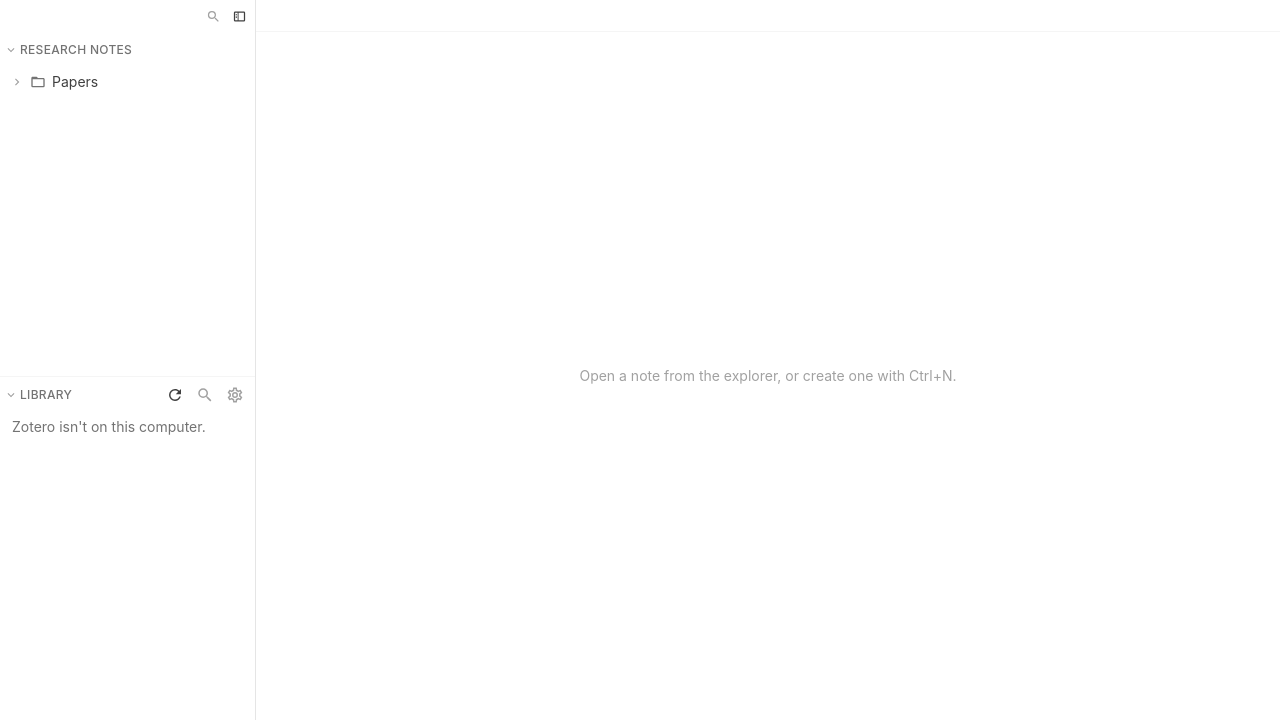
File explorer: what it shows › can open folders inside folders
Expected: the heading "Research Notes" is shown, [4, 40, 161, 60]
Click the button "Papers": (128, 82) [6, 68, 249, 96]
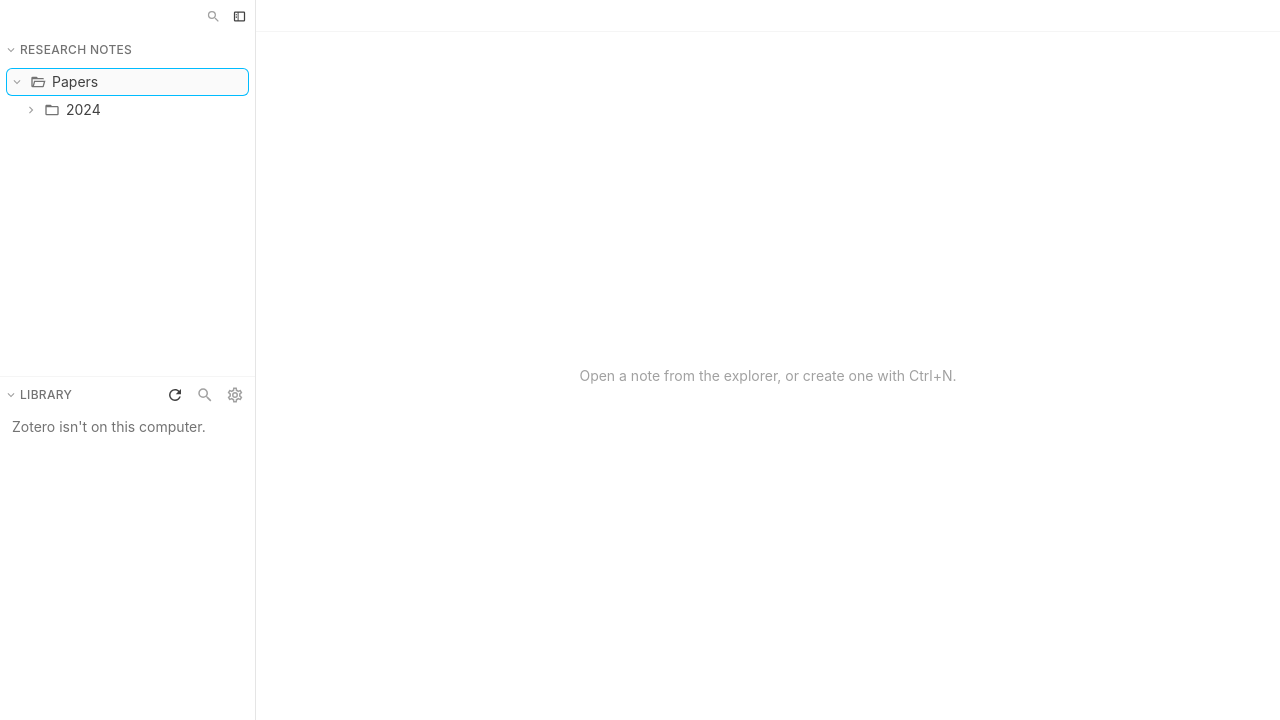
Click the button "2024": (128, 110) [6, 96, 249, 124]
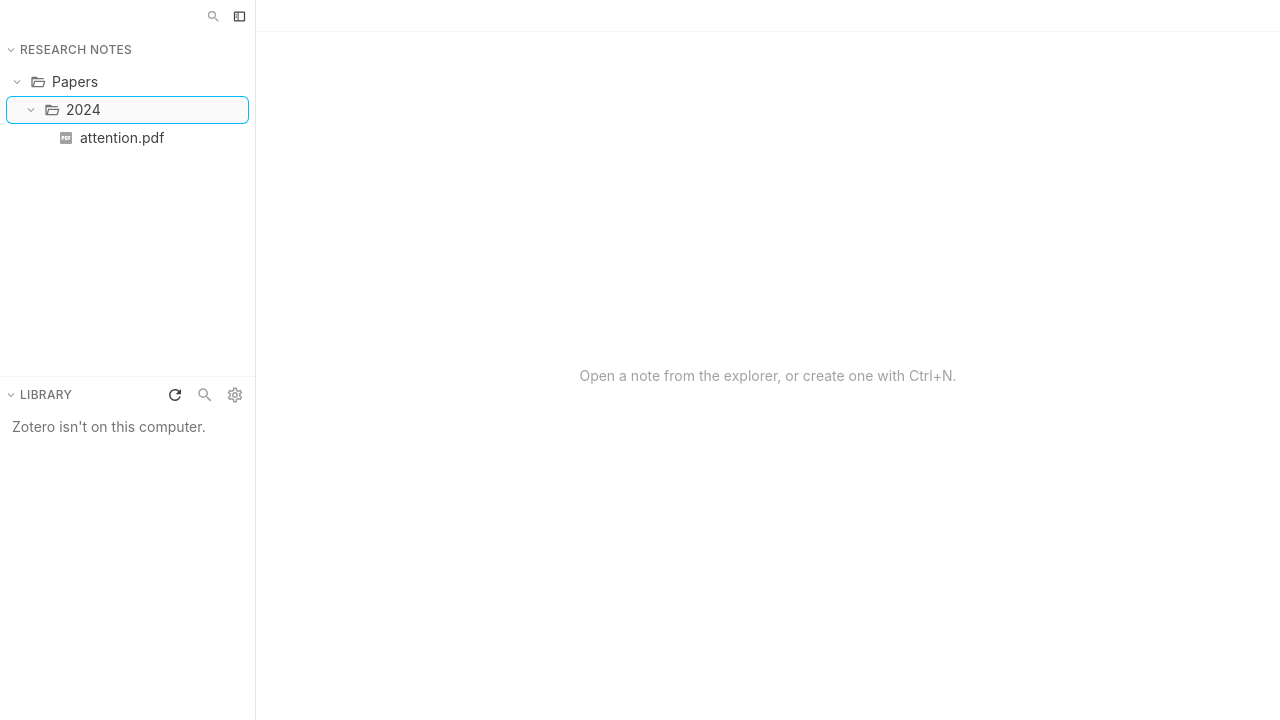
Now the text "attention.pdf" is shown, box [80, 128, 164, 148]
